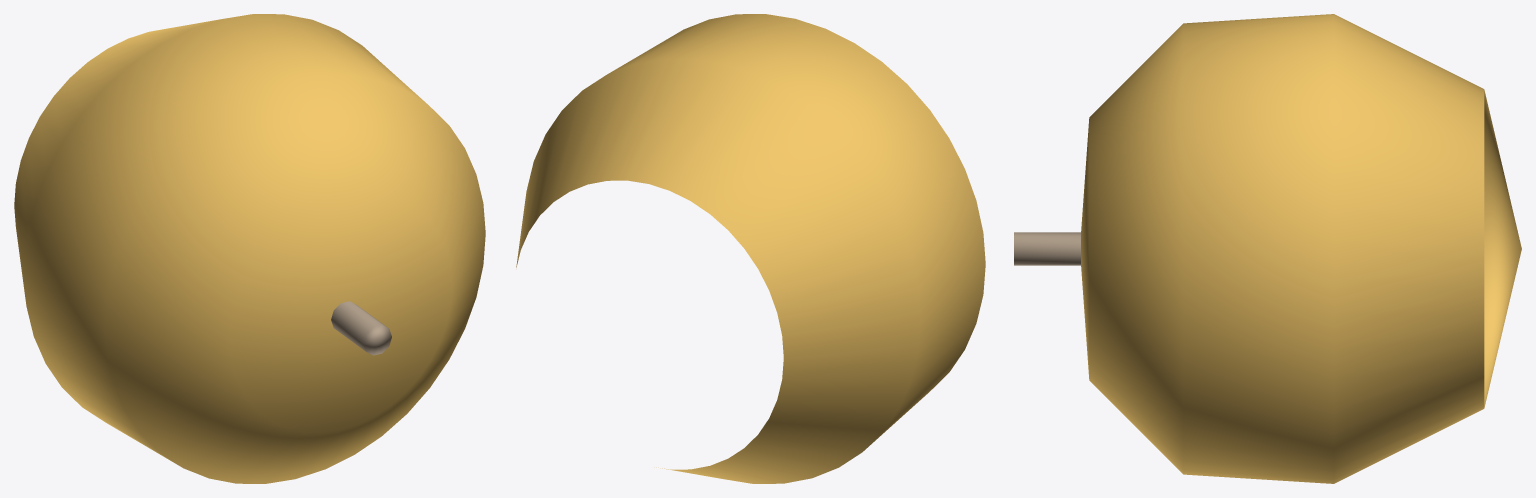
Rendered from apricot.glb.
3 renders of one model, left to right at view 1: azimuth 30°, elevation 25°; view 2: azimuth 150°, elevation 25°; view 3: azimuth 270°, elevation 25°, orthographic. The views are drawn at different scales.
Parts seen in each view (by area): view 1: apricot, stem; view 2: apricot; view 3: apricot, stem.
Part boxes in pixels (x1,y1,x2,y2): apricot: (14,14,485,483); stem: (331,301,391,355); apricot: (516,14,985,483); apricot: (1081,14,1521,483); stem: (1014,232,1080,265).
Size of the model in its own units: 0.05 by 0.05 by 0.054.
